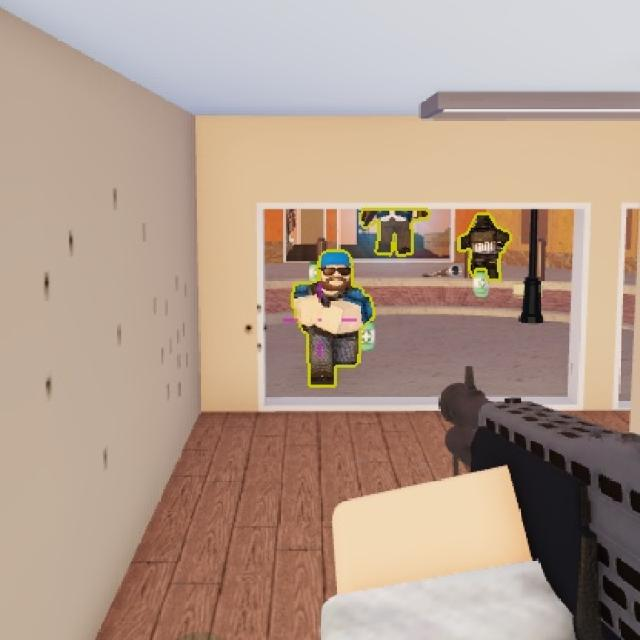player: (295, 242, 370, 379), (458, 211, 508, 284)
